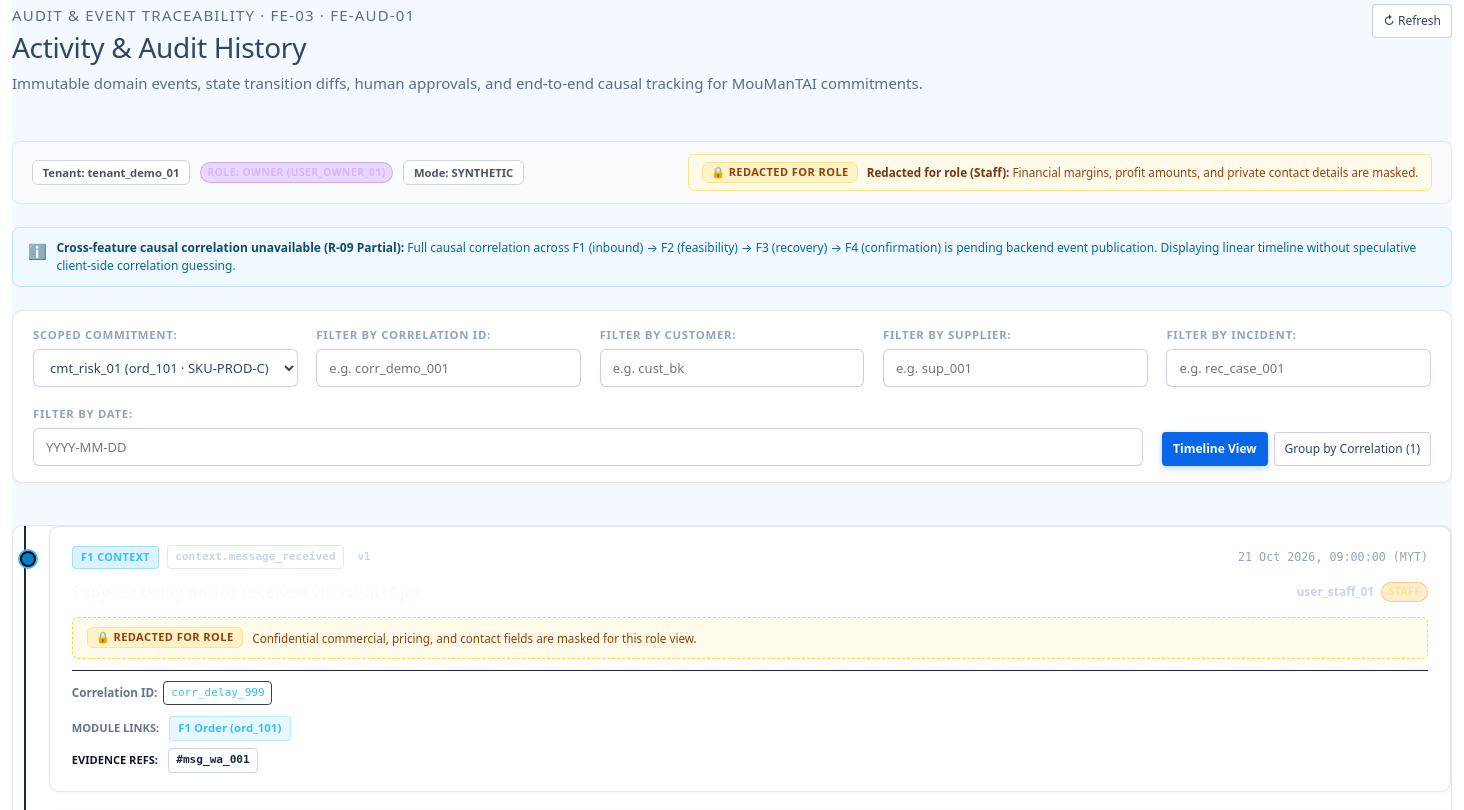
it: ActivityPage (FE-03a–d, UI-02) › renders correlation chain grouping and deep links to /orders/:id, /impact/:id, /recovery/:id, and /confirmations/:id
Expected: the text "corr_delay_999" is shown, [171, 686, 265, 699]
Expected: the element with test id "deep-links-row" is shown, [72, 716, 291, 741]
Note: Switch to Group by Correlation view
What coordinates should you click on to do the following:
click the button "Group by Correlation (1)"
I would click on:
 (1352, 449)
Its box is [1274, 432, 1431, 466].
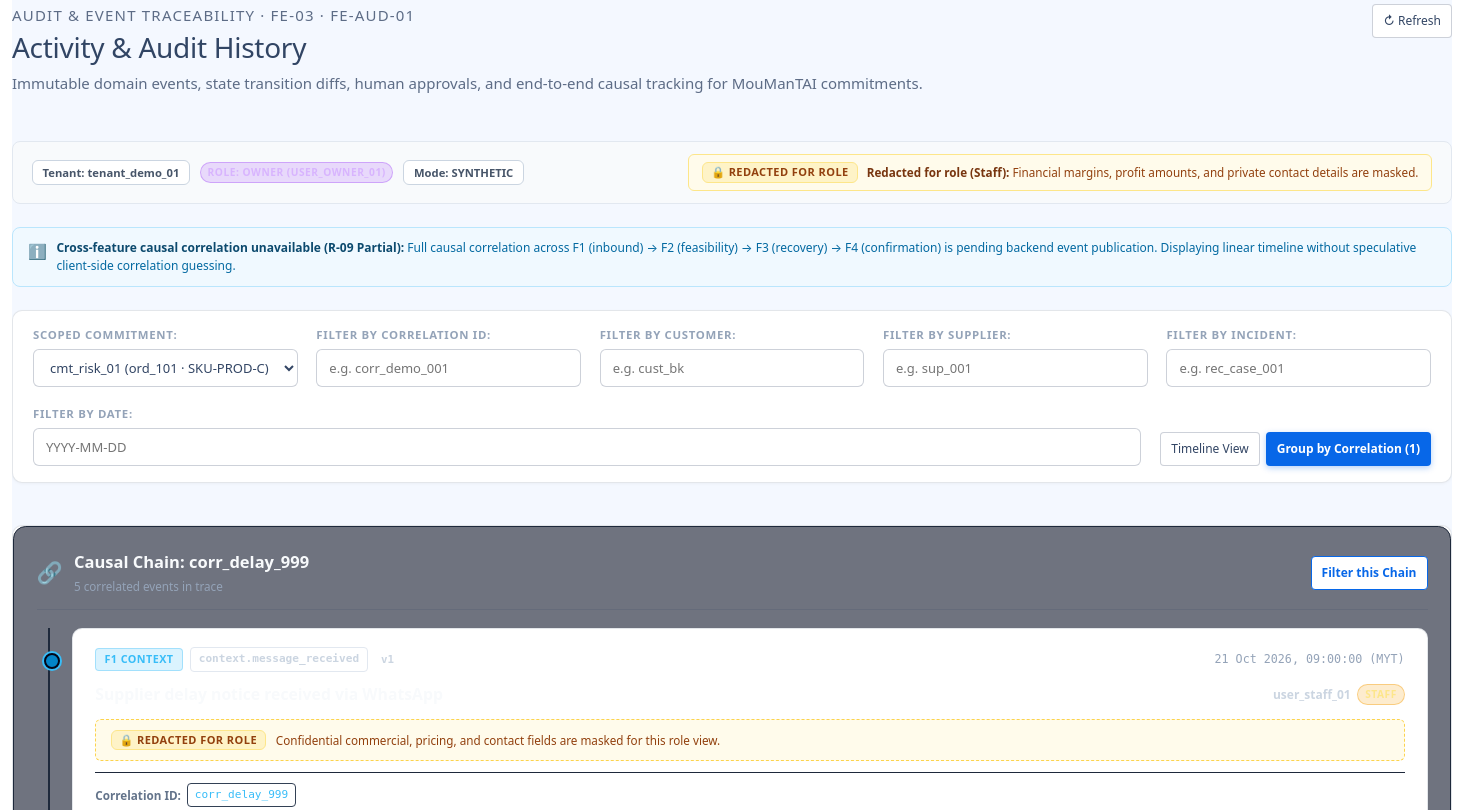
Result: the heading "Causal Chain: corr_delay_999" is shown at [74, 550, 309, 574]
Result: the text "5 correlated events in trace" is shown at [74, 578, 223, 594]
